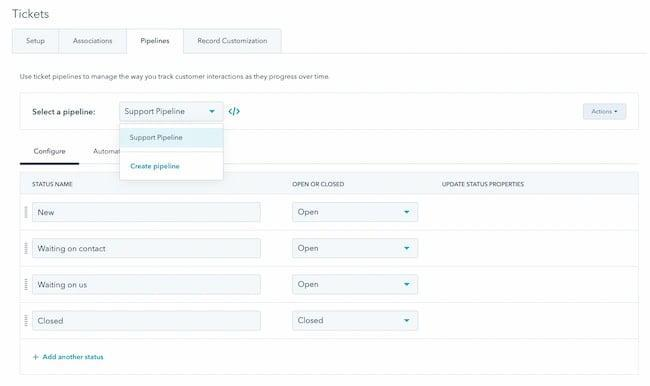button: (184, 30, 282, 54), (60, 30, 128, 53), (20, 142, 81, 166), (127, 30, 185, 53), (12, 31, 59, 53)
dropdown: (294, 274, 419, 296), (292, 239, 420, 260), (294, 311, 418, 332), (294, 202, 420, 222), (120, 102, 224, 124), (585, 103, 628, 121)
icon: (227, 107, 243, 119)
input: (34, 239, 261, 260), (33, 275, 263, 294), (32, 204, 261, 223), (33, 312, 262, 330)
label: (440, 174, 533, 191), (291, 176, 350, 192), (31, 178, 78, 193)
